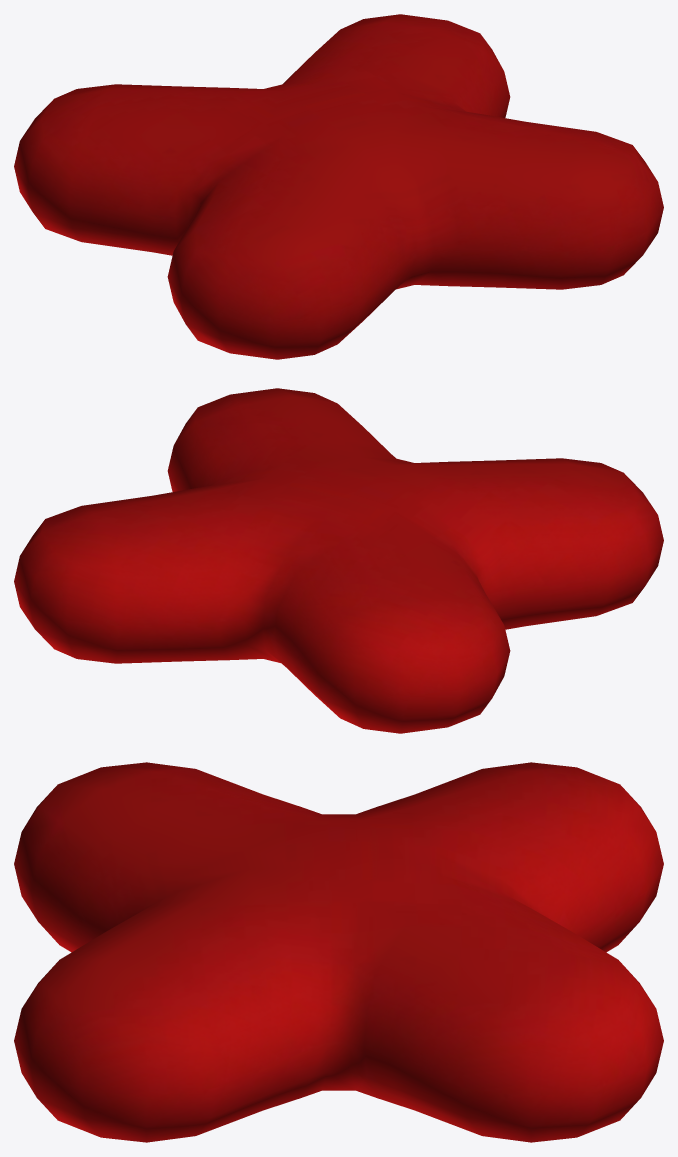
The model's file is cross.glb.
The picture shows the model from 3 angles, top to bottom: view 1: azimuth 30°, elevation 25°; view 2: azimuth 150°, elevation 25°; view 3: azimuth 270°, elevation 25°; orthographic projection. The views are drawn at different scales.
Bounding box in the file's own units: 1 × 0.3151 × 0.951.
Materials: 1 (1 with a texture image).
